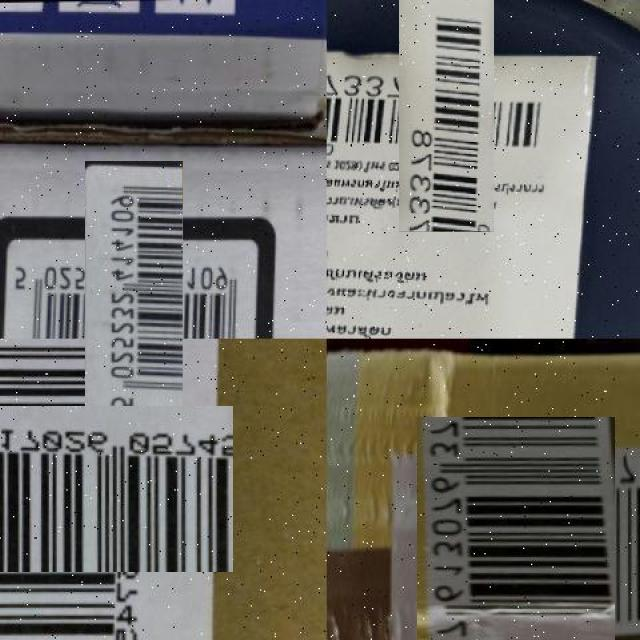Barcode: (406, 429, 628, 640), (0, 372, 200, 606), (46, 201, 223, 378), (362, 28, 530, 196)
